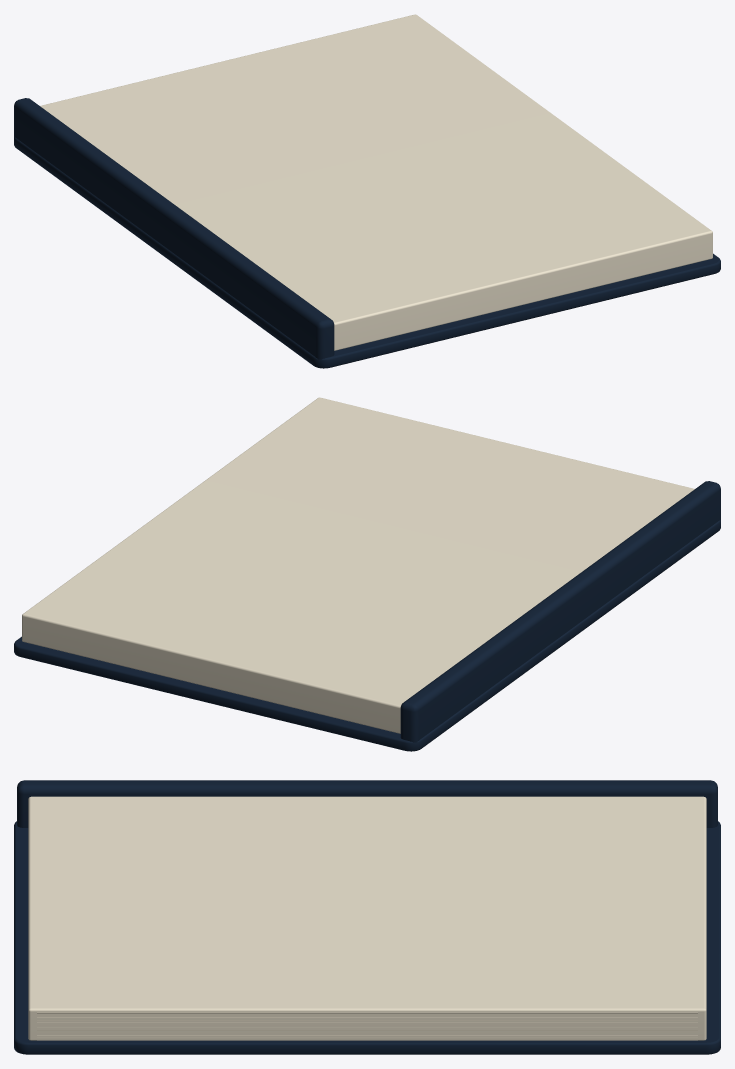
Rendered from passport.glb.
3 views of the same model, one above another, from view 1: azimuth 30°, elevation 25°; view 2: azimuth 150°, elevation 25°; view 3: azimuth 270°, elevation 25° (orthographic). The views are drawn at different scales.
Parts seen in each view (by area): view 1: passport / Uncoated warm paper, passport / Passport navy pebbled cover; view 2: passport / Uncoated warm paper, passport / Passport navy pebbled cover; view 3: passport / Uncoated warm paper, passport / Passport navy pebbled cover, passport / Paper end grain.
Boxes of the visible parts, box(x1,y1,x2,y2) form: passport / Uncoated warm paper: box(40, 14, 712, 350); passport / Passport navy pebbled cover: box(14, 98, 720, 368); passport / Uncoated warm paper: box(22, 397, 694, 733); passport / Passport navy pebbled cover: box(14, 481, 720, 751); passport / Uncoated warm paper: box(28, 796, 706, 1040); passport / Passport navy pebbled cover: box(14, 780, 720, 1054); passport / Paper end grain: box(37, 1012, 697, 1040).
Size of the model in its own units: 3.72 by 0.4 by 4.92.
